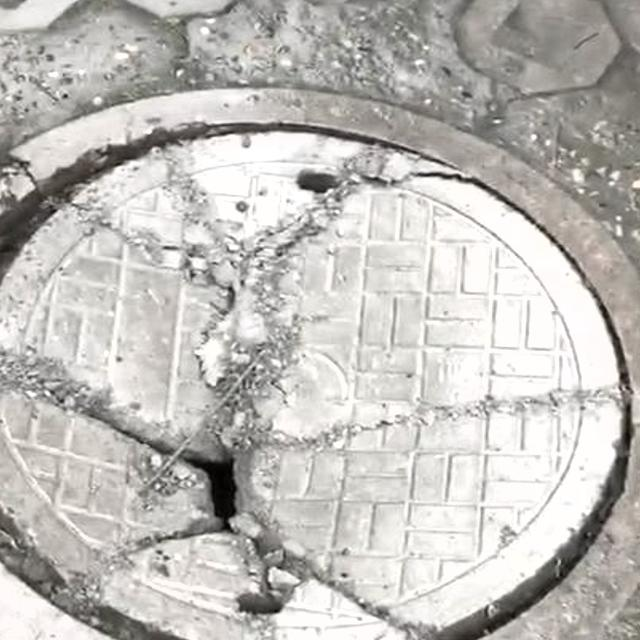broke: (0, 98, 638, 640)
